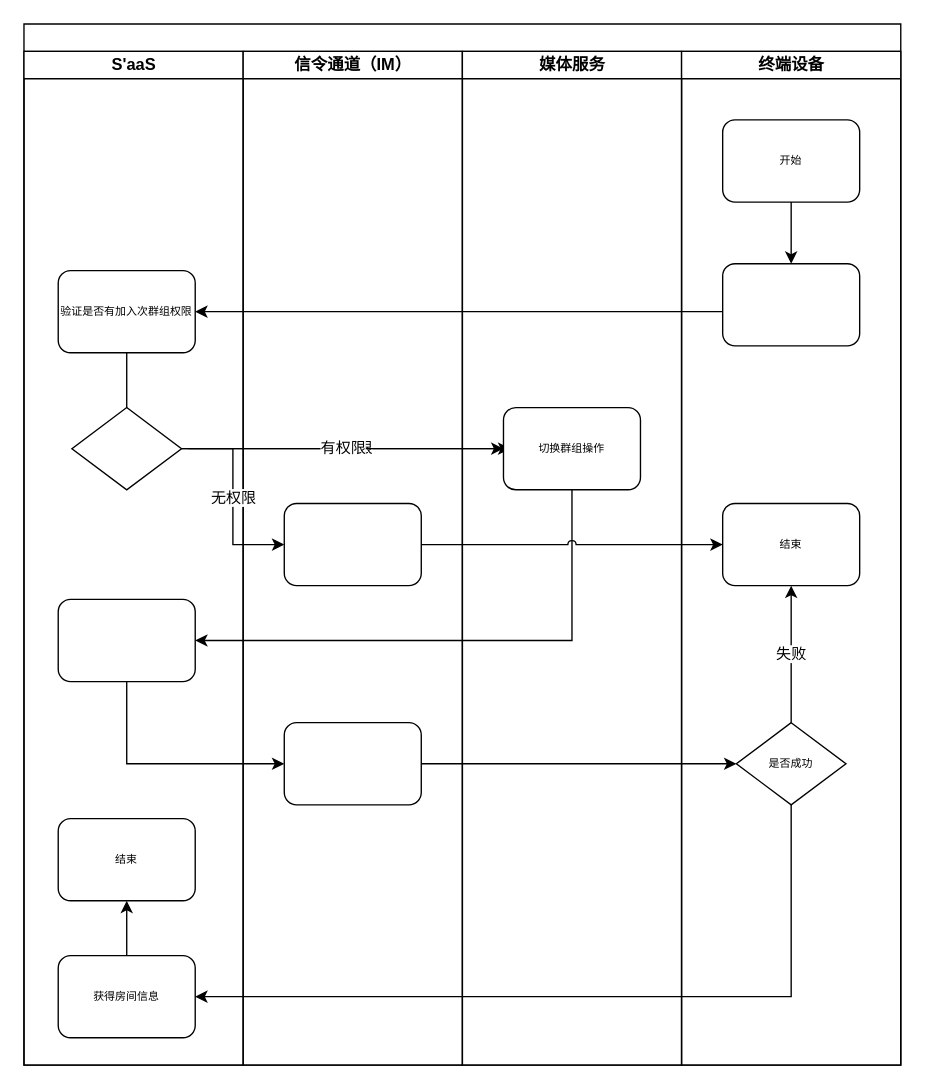
This 925x1089 diagram has some shape labels left out. Here are the shapes that lost their labels. From the top down, the centre of each, then its label:
At point 790,304: "设备切换群组".
At point 126,448: "是否有权限".
At point 352,544: "发送无权限消息".
At point 126,640: "流媒体服务返回信息".
At point 352,763: "发送信令通知终端 已加入或切换房间成功/失败".
